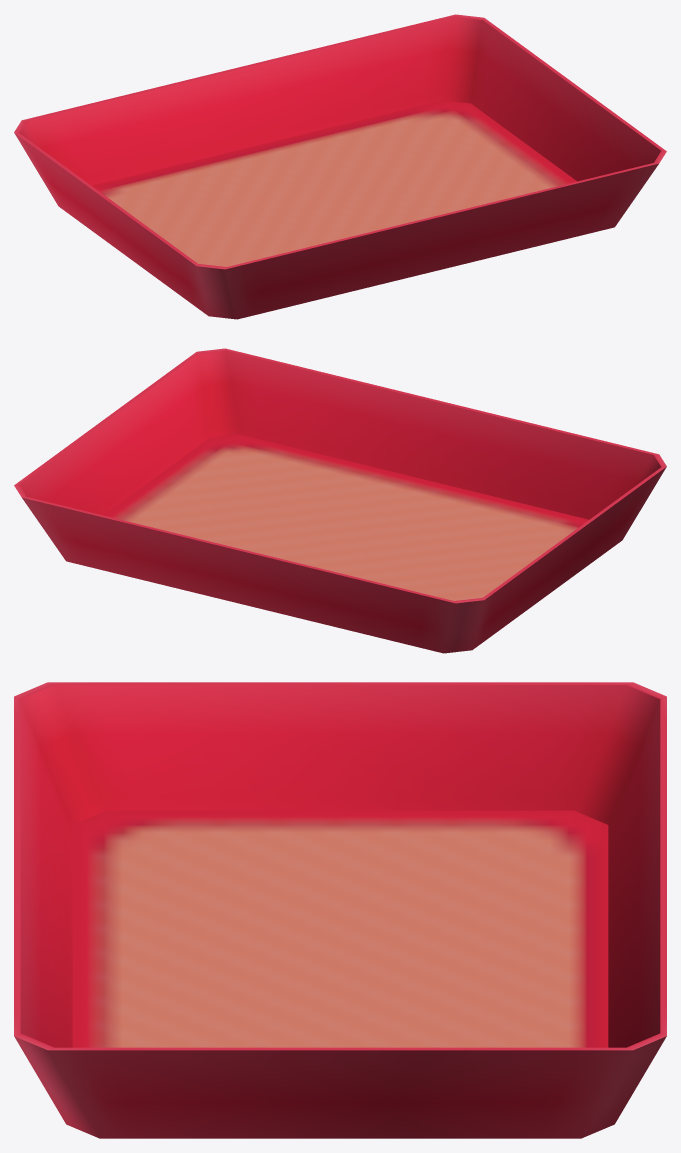
Rendered from jsf_Carton_07.fbx.
The picture shows the model from 3 angles, top to bottom: view 1: azimuth 30°, elevation 25°; view 2: azimuth 150°, elevation 25°; view 3: azimuth 270°, elevation 25°; orthographic projection. The views are drawn at different scales.
Visible parts, largest first — view 1: jsf_Carton_07; view 2: jsf_Carton_07; view 3: jsf_Carton_07.
Part boxes in pixels (x1,y1,x2,y2): jsf_Carton_07: (14,14,666,319); jsf_Carton_07: (14,348,666,653); jsf_Carton_07: (14,682,666,1138).
Size of the model in its own units: 20 by 2.8 by 15.
